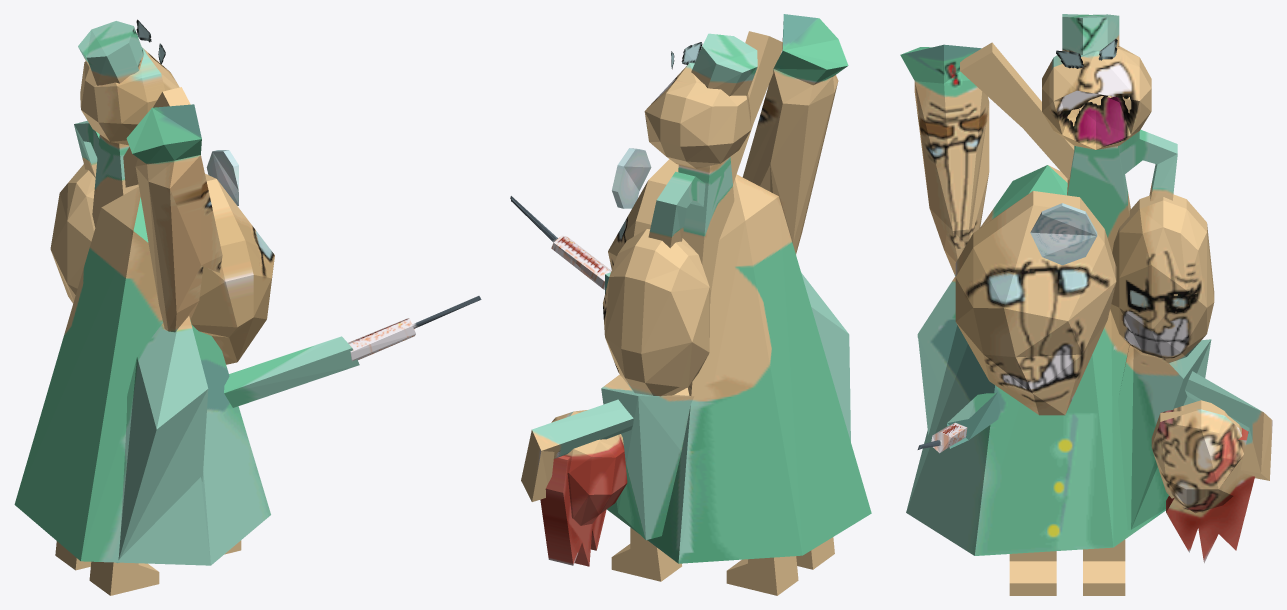
The model's file is Doctors.glb.
The picture shows the model from 3 angles, left to right: view 1: azimuth 30°, elevation 25°; view 2: azimuth 150°, elevation 25°; view 3: azimuth 270°, elevation 25°; orthographic projection. The views are drawn at different scales.
Visible parts, largest first — view 1: Doctors; view 2: Doctors; view 3: Doctors.
Boxes of the visible parts, x1=… form: Doctors: x1=14, y1=19, x2=481, y2=595; Doctors: x1=510, y1=14, x2=871, y2=595; Doctors: x1=900, y1=14, x2=1272, y2=595.
Bounding box in the file's own units: 117 × 155 × 96.63.
1 material, 1 textured.
